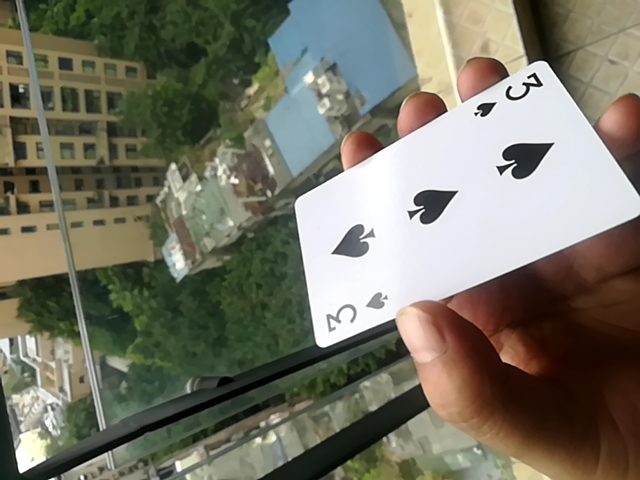ht 3: (291, 56, 639, 351)
